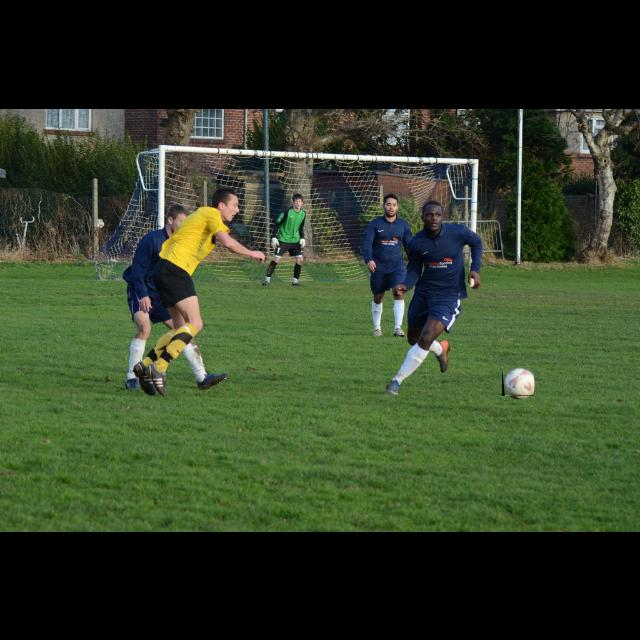Football: (502, 366, 534, 396)
